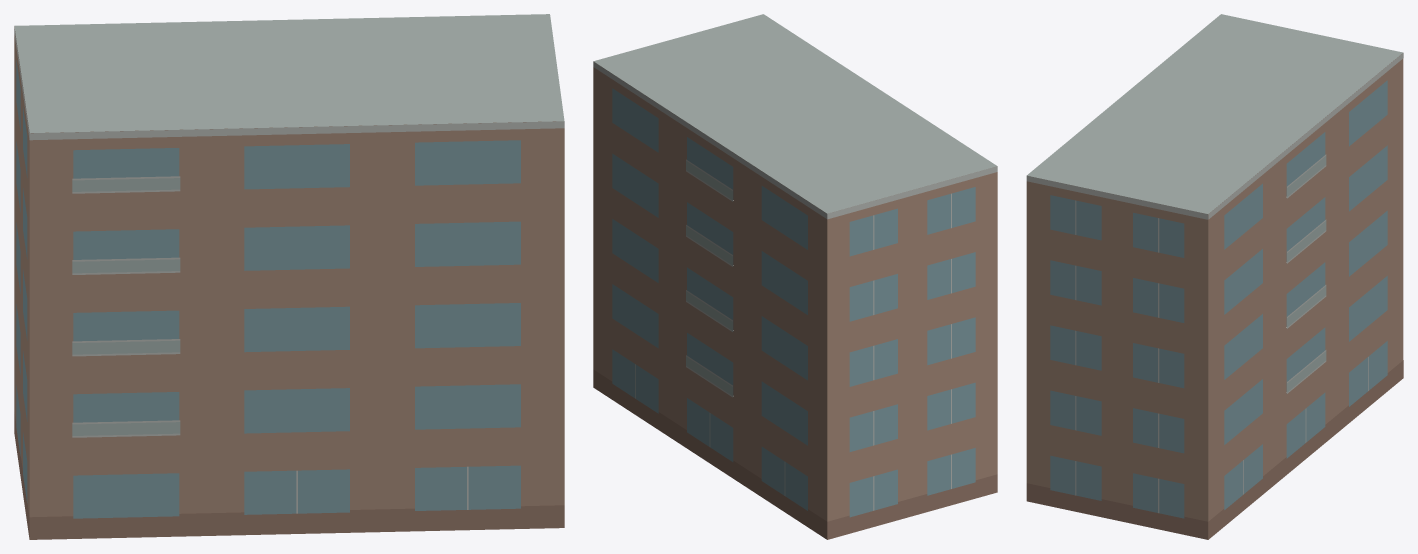
The model's file is survey-upis-32660080.glb.
3 renders of one model, left to right at view 1: azimuth 30°, elevation 25°; view 2: azimuth 150°, elevation 25°; view 3: azimuth 270°, elevation 25°, orthographic. The views are drawn at different scales.
Parts seen in each view (by area): view 1: survey-upis-32660080.tmp; view 2: survey-upis-32660080.tmp; view 3: survey-upis-32660080.tmp.
Boxes of the visible parts, <box> form: survey-upis-32660080.tmp: <box>14,14,564,539</box>; survey-upis-32660080.tmp: <box>593,14,997,539</box>; survey-upis-32660080.tmp: <box>1026,14,1403,539</box>.
Size of the model in its own units: 18.46 by 14 by 14.69.
